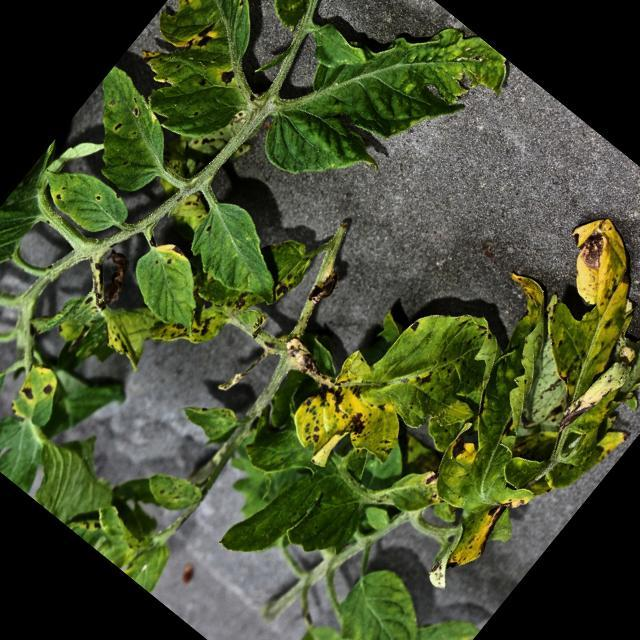Tomato Septoria spot leaf: (371, 261, 640, 546), (238, 0, 522, 257), (279, 258, 518, 512), (100, 0, 321, 166), (486, 206, 640, 406), (52, 59, 201, 208), (170, 184, 315, 324), (111, 229, 232, 347), (31, 149, 138, 252)
